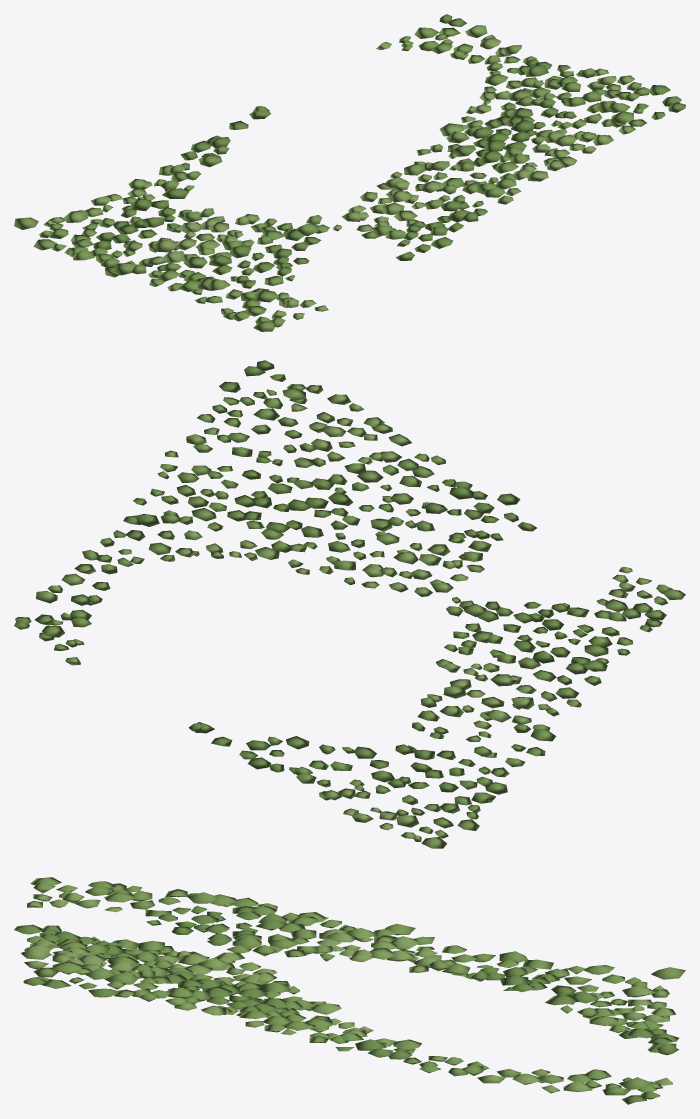
File: canopy-1-5--5.glb
3 renders of one model, top to bottom at view 1: azimuth 30°, elevation 25°; view 2: azimuth 150°, elevation 25°; view 3: azimuth 270°, elevation 25°, orthographic. The views are drawn at different scales.
Size of the model in its own units: 520 by 228 by 522.
1 material, 1 textured.
